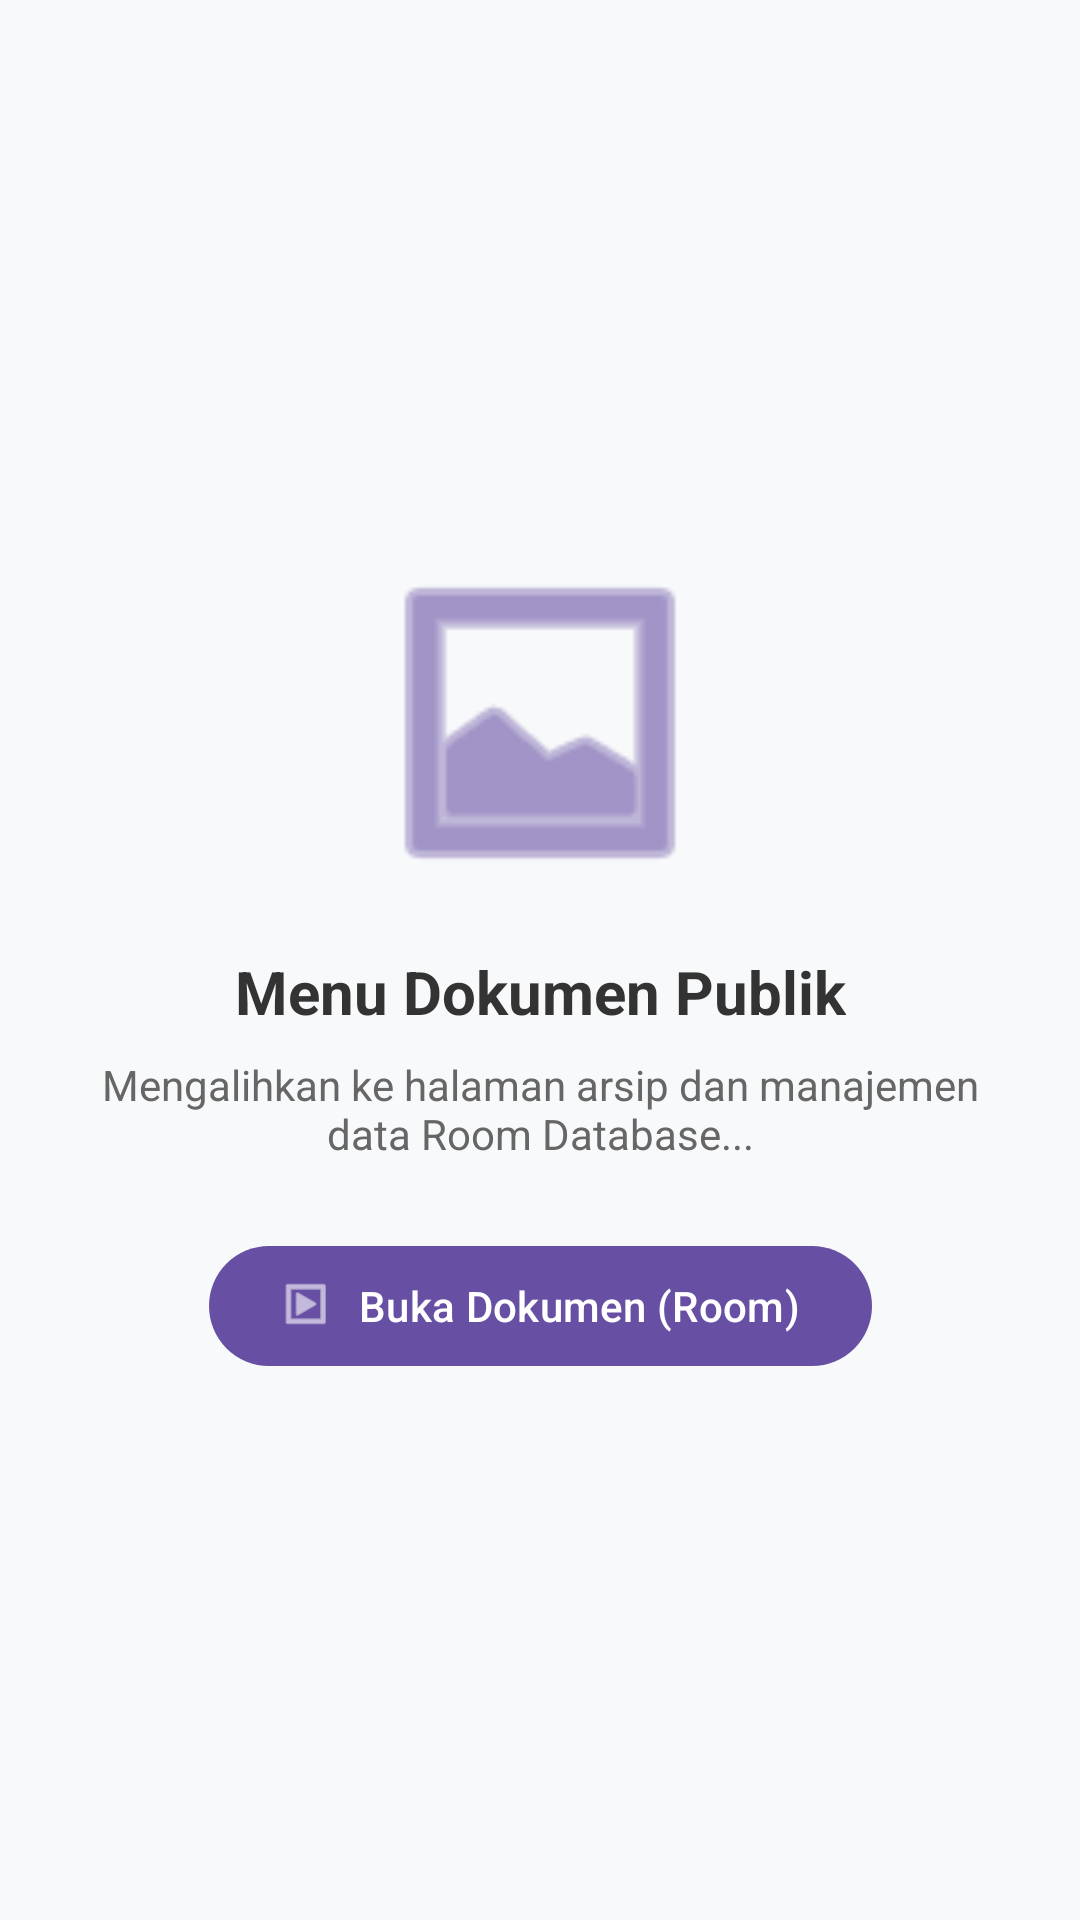

Locate icon controls on the screen. Image size 1080x1920, boxes as bbox=(x1, y1, x2, y2).
gallery: bbox=(405, 587, 675, 859)
